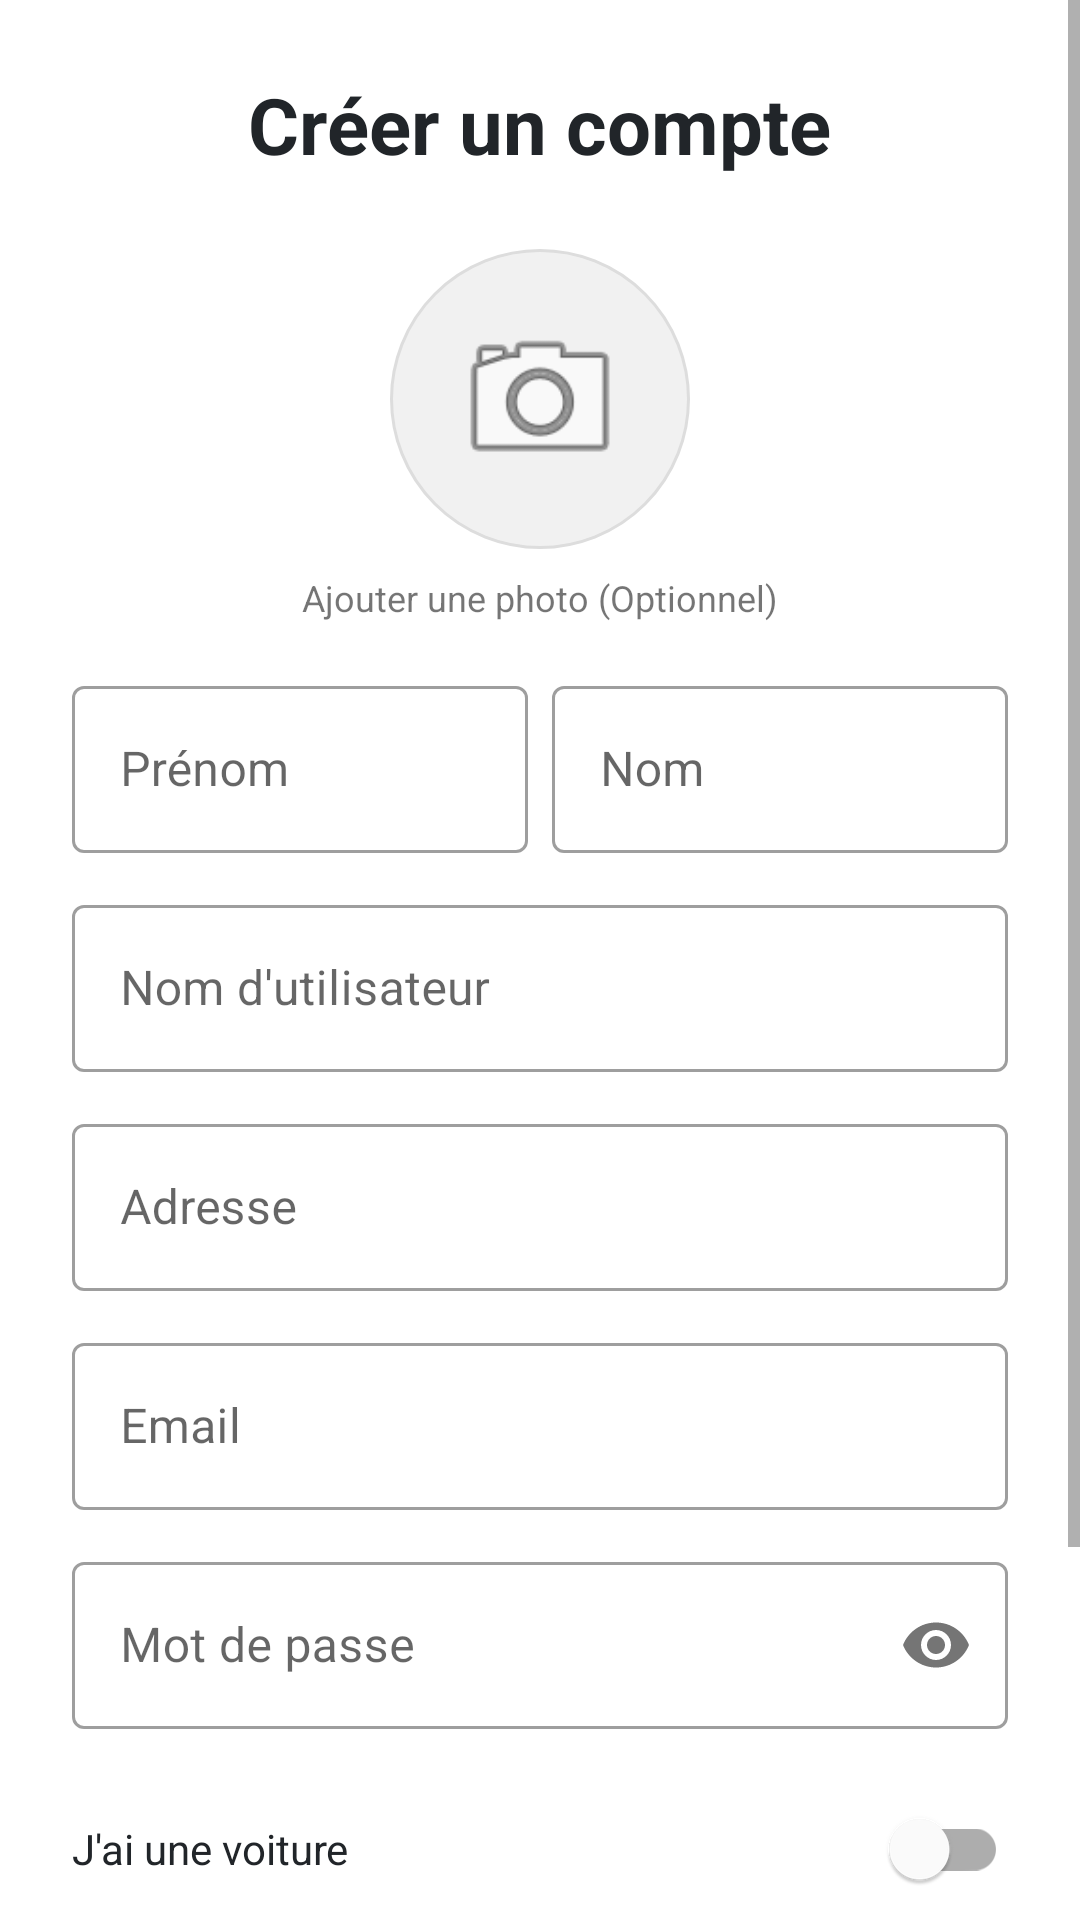

Screen size 1080w x 1920h. Icon name, then its box in pixels as [x1=x1, y1=y1, x2=x2, y2=y2]:
Photo de profil: [x1=390, y1=249, x2=690, y2=549]
